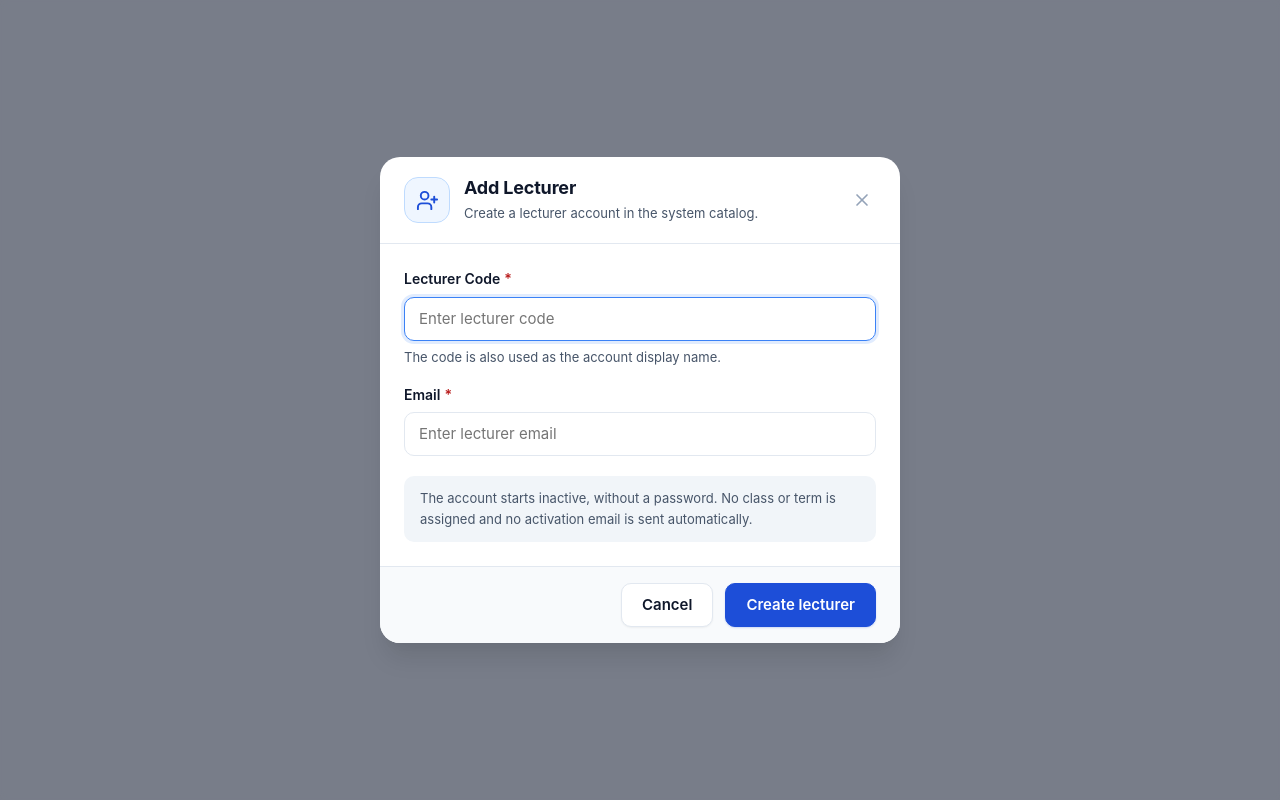
it: Add Lecturer › keeps an uncertain result without retrying
Type " GV_TEST " into the field labelled "Lecturer Code*".
click(640, 319); type(" GV_TEST ")  # box [404,297,876,341]
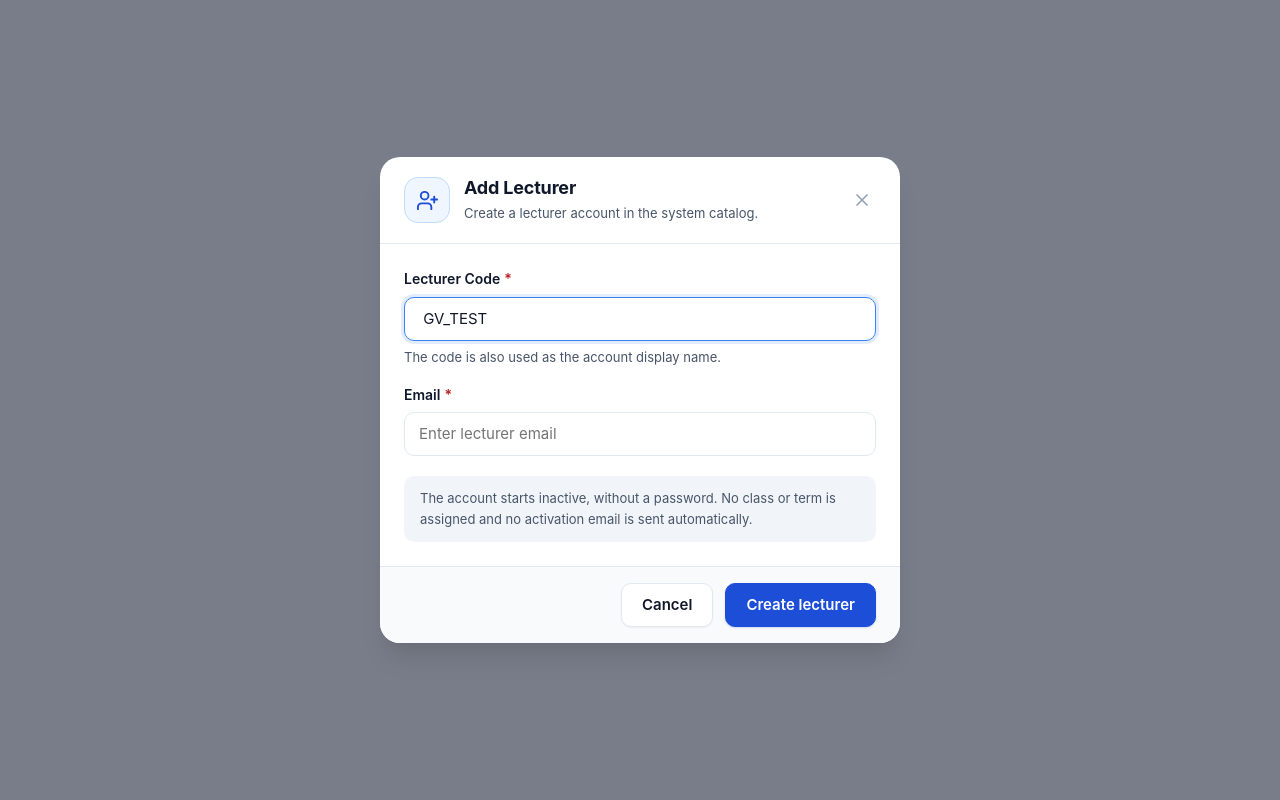
Type " TEST@EXAMPLE.TEST " into the field labelled "Email*".
click(640, 434); type(" TEST@EXAMPLE.TEST ")  # box [404,412,876,456]
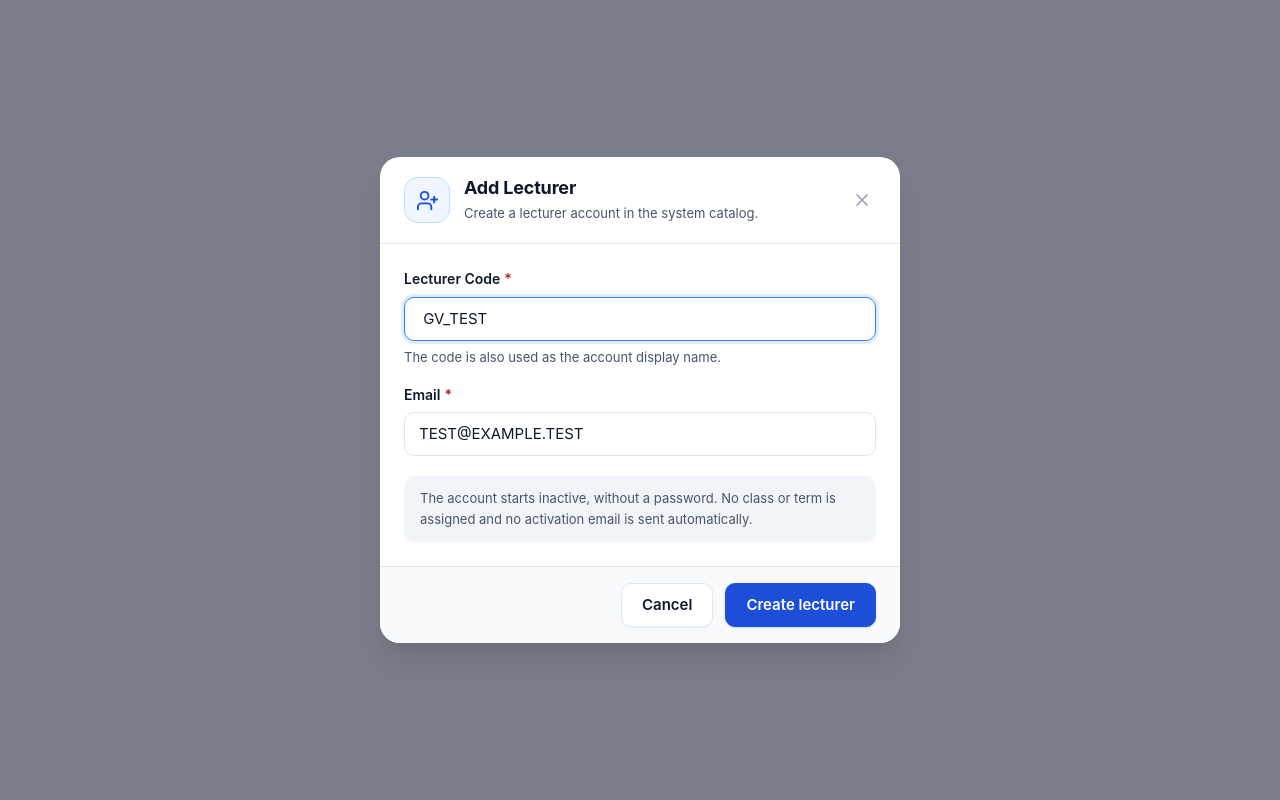
Click the button "Create lecturer".
click(801, 605)  # box [725,583,876,627]
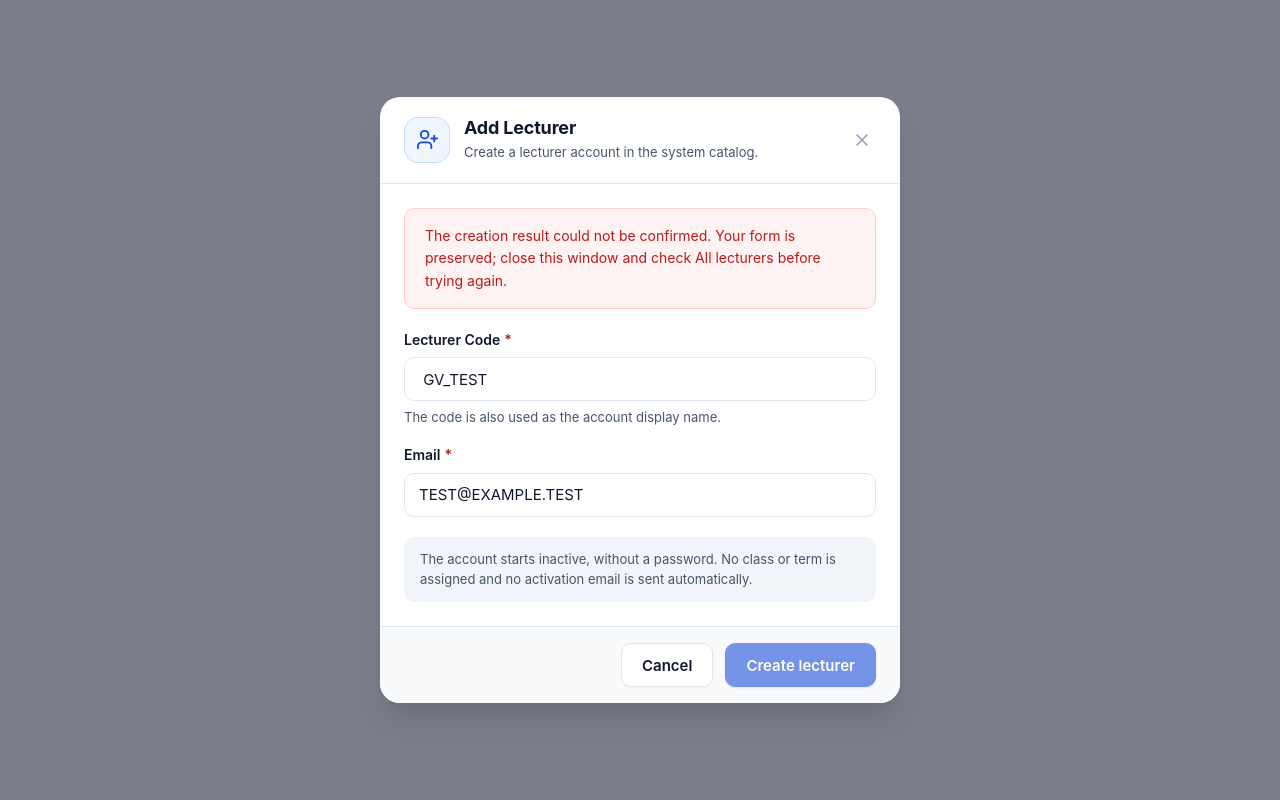
Expected: the text "The creation result could not be confirmed. Your form is preserved; close this window and check All lecturers before try" is shown, [425,227,821,289]
Expected: the button "Create lecturer" is disabled, [725,643,876,687]
